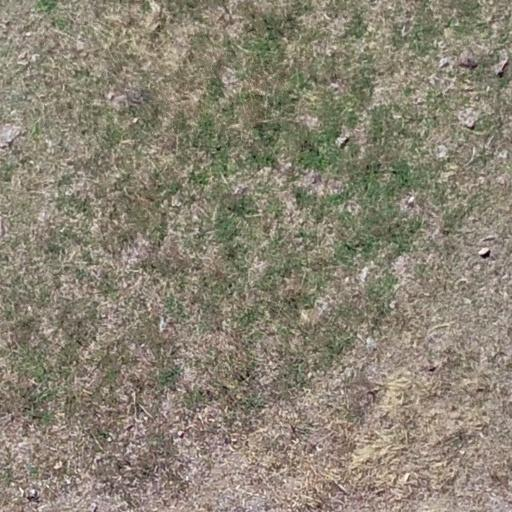stone: (488, 54, 510, 76), (460, 50, 478, 68), (333, 134, 353, 150), (478, 247, 492, 260), (463, 117, 475, 128), (15, 50, 27, 59), (16, 60, 30, 66)
